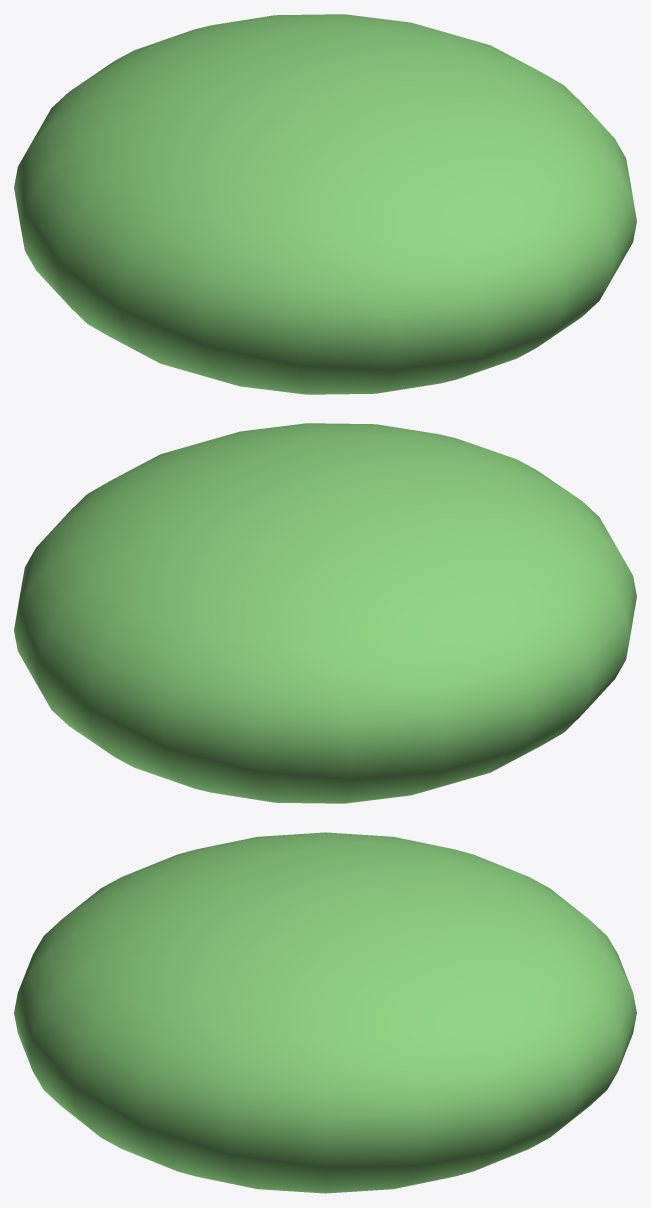
The model's file is Button 1.fbx.
3 views of the same model, one above another, from view 1: azimuth 30°, elevation 25°; view 2: azimuth 150°, elevation 25°; view 3: azimuth 270°, elevation 25° (orthographic). The views are drawn at different scales.
Parts seen in each view (by area): view 1: polySurface166; view 2: polySurface166; view 3: polySurface166.
Part boxes in pixels (box(x1,y1,x2,y2)): polySurface166: box(14, 14, 636, 394); polySurface166: box(14, 423, 636, 803); polySurface166: box(14, 832, 636, 1193).
Bounding box in the file's own units: 1.86 × 0.8978 × 1.95.
